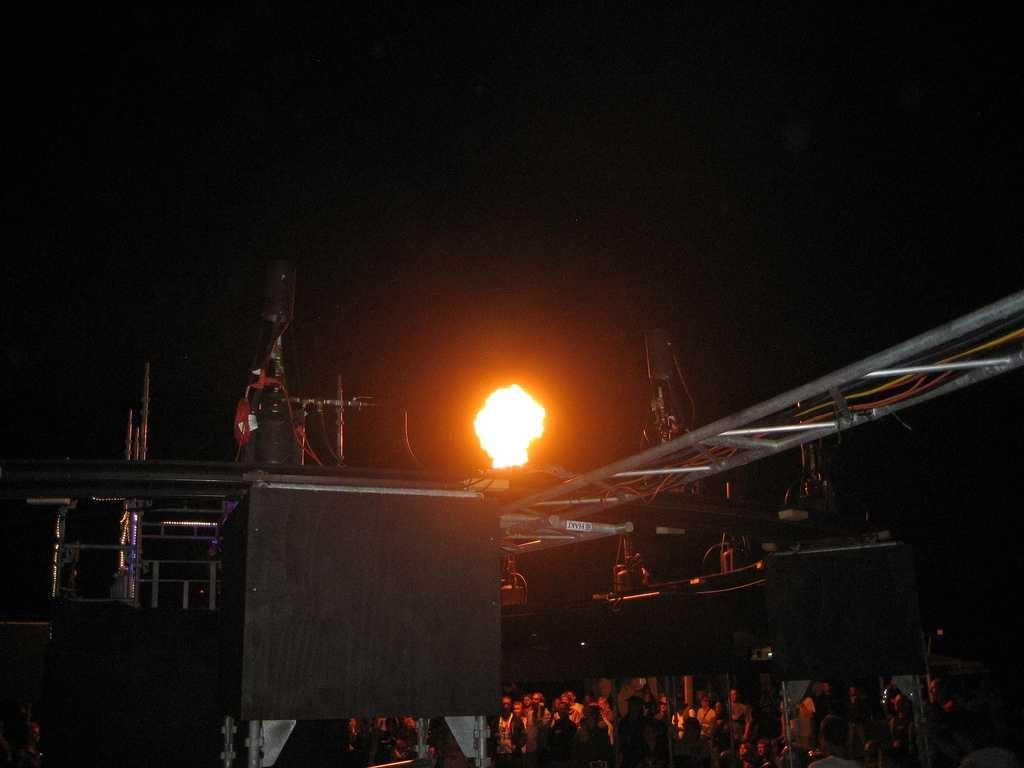fire: (478, 391, 544, 459)
